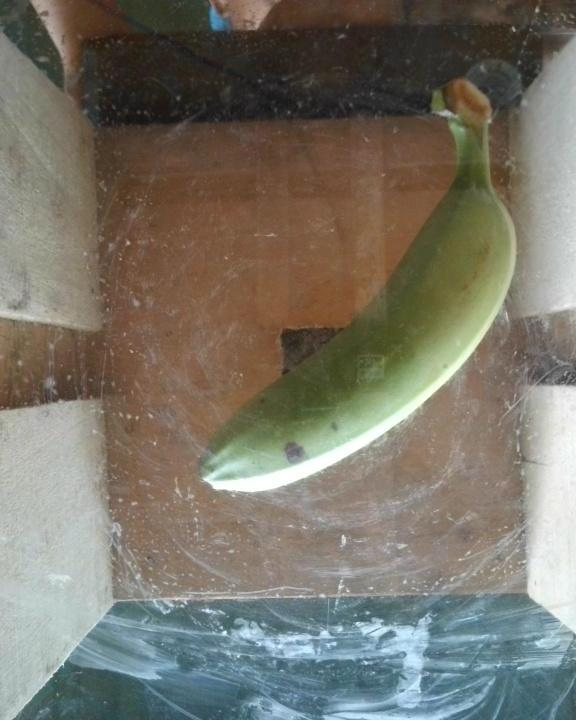CLASS B: (188, 75, 555, 514)
Class A: (280, 433, 313, 469)
